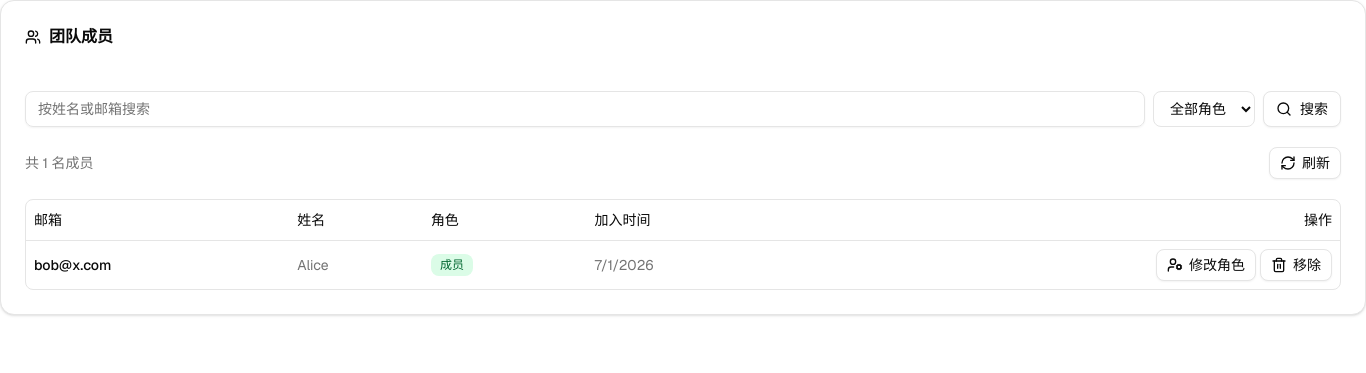
Test: TeamMembersManager - 移除成员 › DELETE 后端 400 「不能移除所有者」显示 error 文案
Expected: the text "bob@x.com" is shown, 26,240 -> 289,288
Click the button "移除": (1296, 264) 1260,248 -> 1332,280
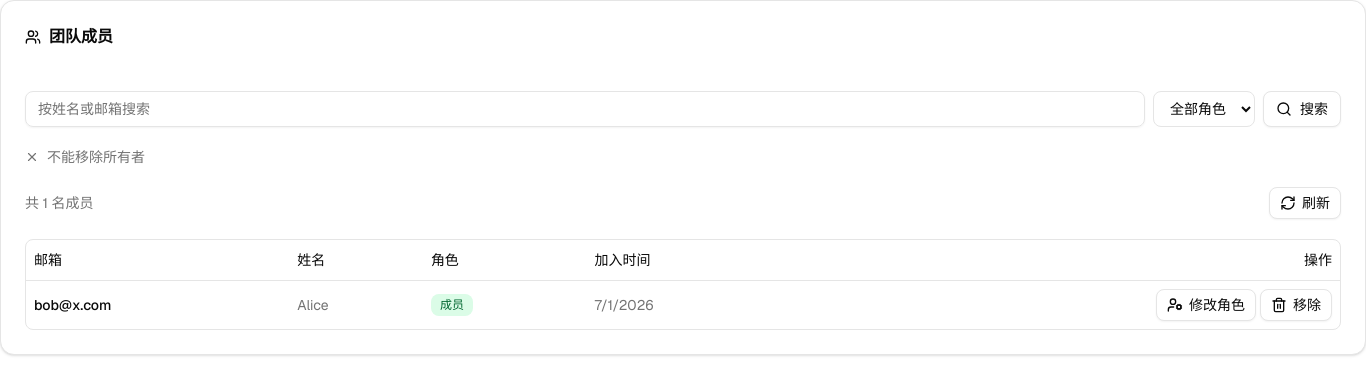
Expected: the text "不能移除所有者" is shown, 25,148 -> 145,166
